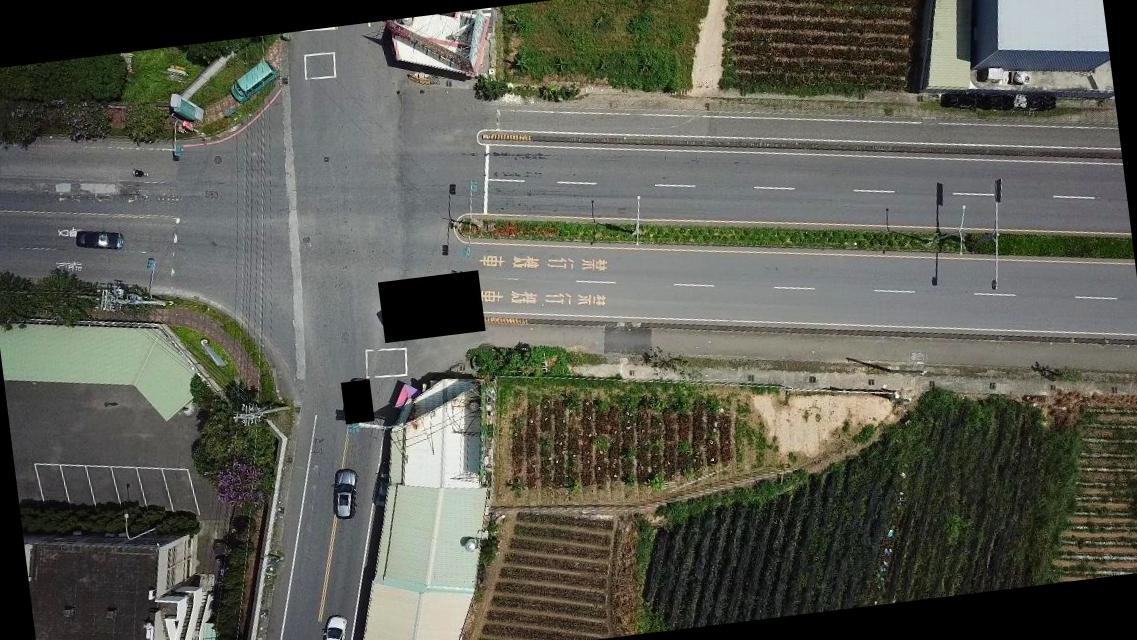vehicle: (224, 60, 280, 105), (330, 468, 360, 521), (74, 226, 124, 253), (314, 613, 354, 639)
